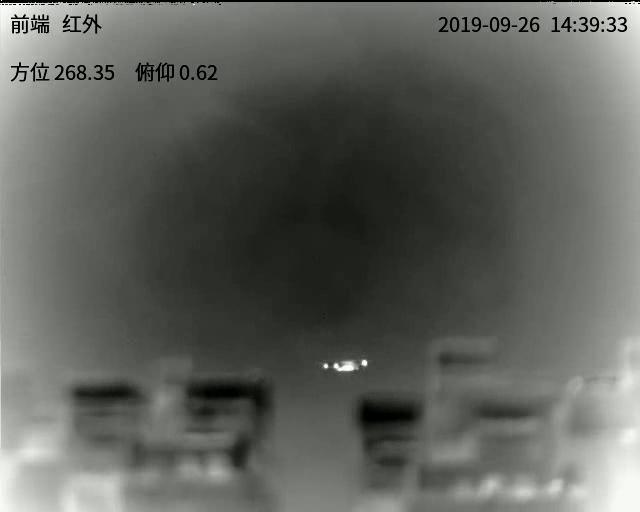DRONE: (321, 358, 369, 373)
